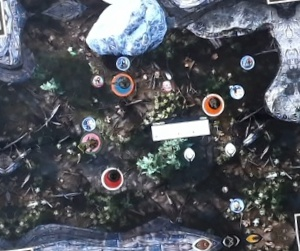light_blue_orange: (109, 71, 135, 97)
orange: (200, 91, 226, 117)
pink_green: (76, 132, 102, 157)
red: (96, 166, 122, 191)
